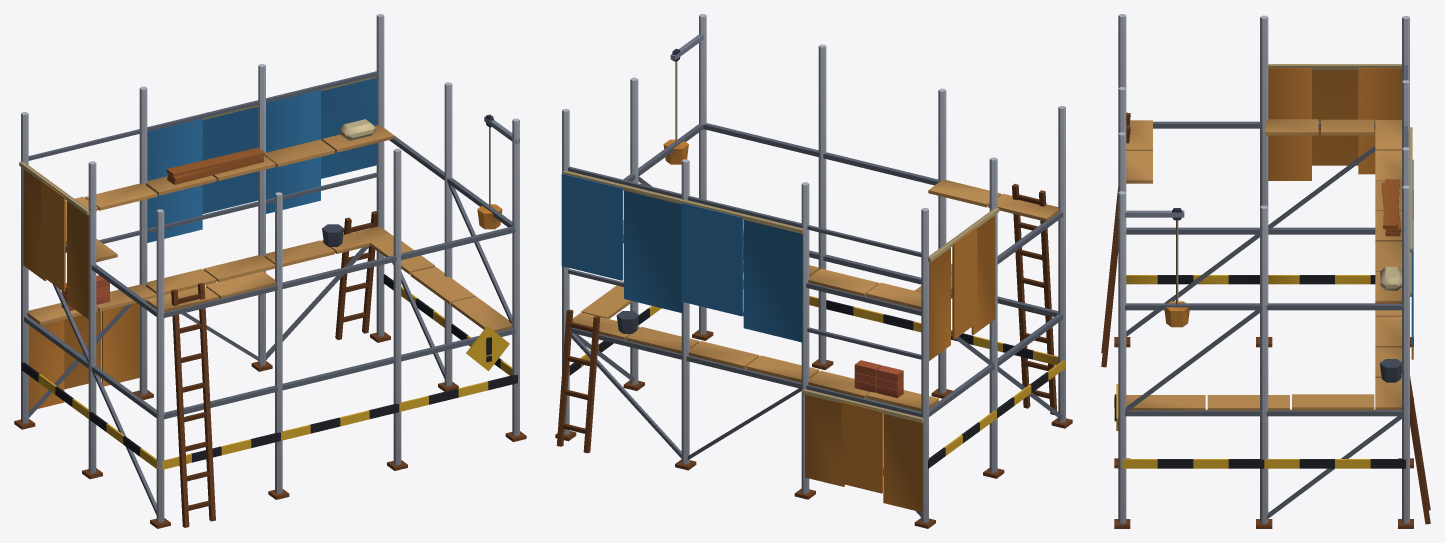
Rendered from b_scaffold_3x2.glb.
3 renders of one model, left to right at view 1: azimuth 30°, elevation 25°; view 2: azimuth 150°, elevation 25°; view 3: azimuth 270°, elevation 25°, orthographic. The views are drawn at different scales.
Visible parts, largest first — view 1: body, sway_tarp1, sway_tarp3, sway_tarp2; view 2: body, sway_tarp1, sway_tarp2, sway_tarp3; view 3: body, sway_tarp3, sway_tarp1.
Part boxes in pixels (x1,y1,x2,y2): body: (14,14,526,528); sway_tarp1: (147,76,376,242); sway_tarp3: (19,161,89,319); sway_tarp2: (28,303,139,410); body: (555,14,1072,528); sway_tarp1: (561,171,803,342); sway_tarp2: (802,389,923,512); sway_tarp3: (928,207,999,360); body: (1101,14,1430,528); sway_tarp3: (1268,64,1401,180); sway_tarp1: (1408,127,1413,345).
Bounding box in the file's own units: 6.15 × 5.11 × 4.5.
